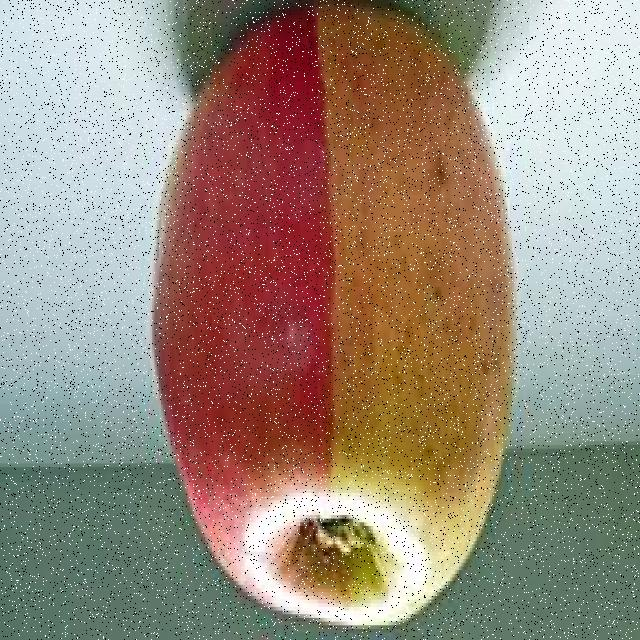Apple: (148, 0, 517, 630)
